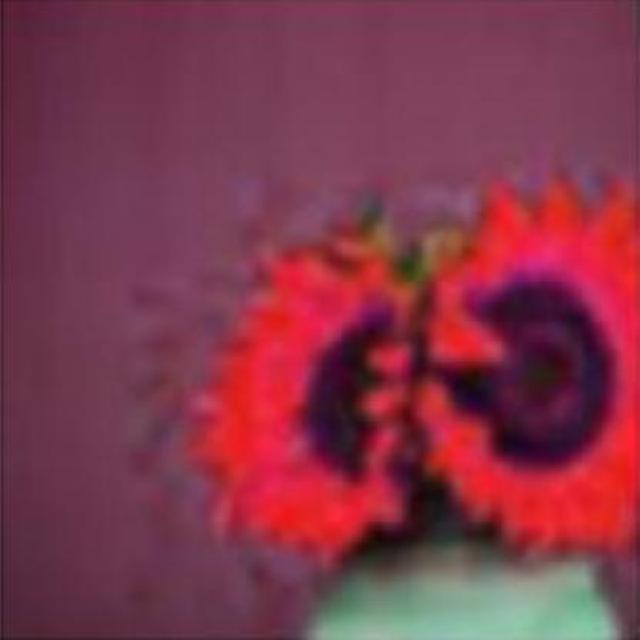sunflower: (412, 162, 640, 563), (182, 211, 418, 575)
